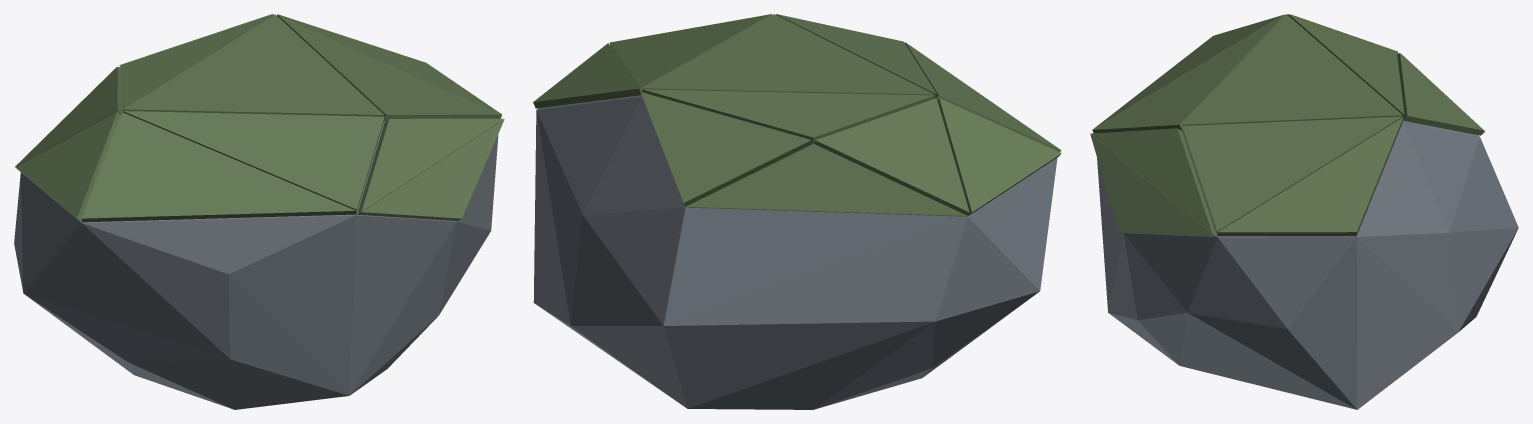
File: rock_moss_a.glb
3 renders of one model, left to right at view 1: azimuth 30°, elevation 25°; view 2: azimuth 150°, elevation 25°; view 3: azimuth 270°, elevation 25°, orthographic. The views are drawn at different scales.
Parts seen in each view (by area): view 1: body, rock; view 2: rock, body; view 3: rock, body.
Boxes of the visible parts, bbox=[...] form: body: bbox=[15, 14, 504, 222]; rock: bbox=[14, 111, 498, 409]; rock: bbox=[533, 95, 1057, 409]; body: bbox=[533, 14, 1061, 216]; rock: bbox=[1097, 119, 1518, 409]; body: bbox=[1090, 14, 1485, 236].
Bounding box in the file's own units: 1.47 × 0.8365 × 1.27.
